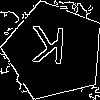K: (29, 26, 67, 74)
